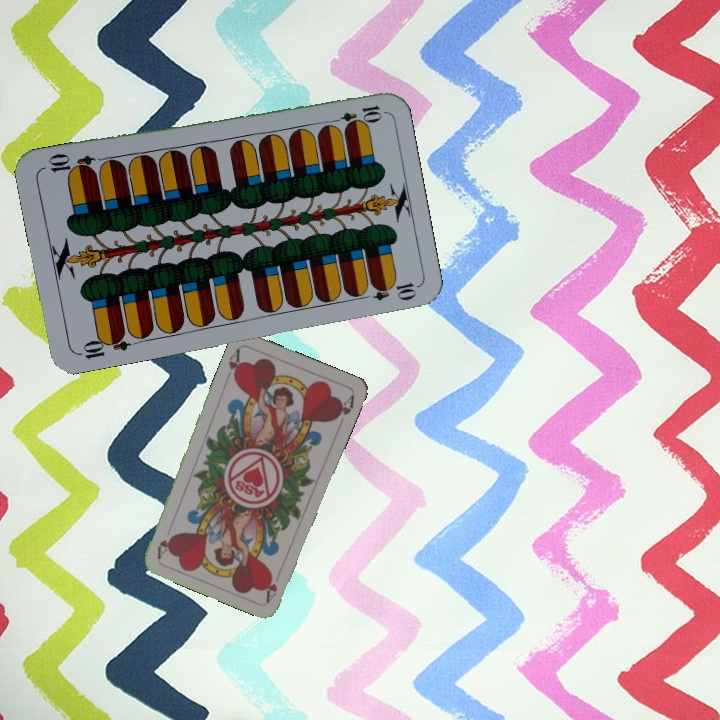E10: (74, 328, 132, 362), (325, 101, 384, 128)
HA: (224, 344, 244, 382), (261, 568, 280, 604)
